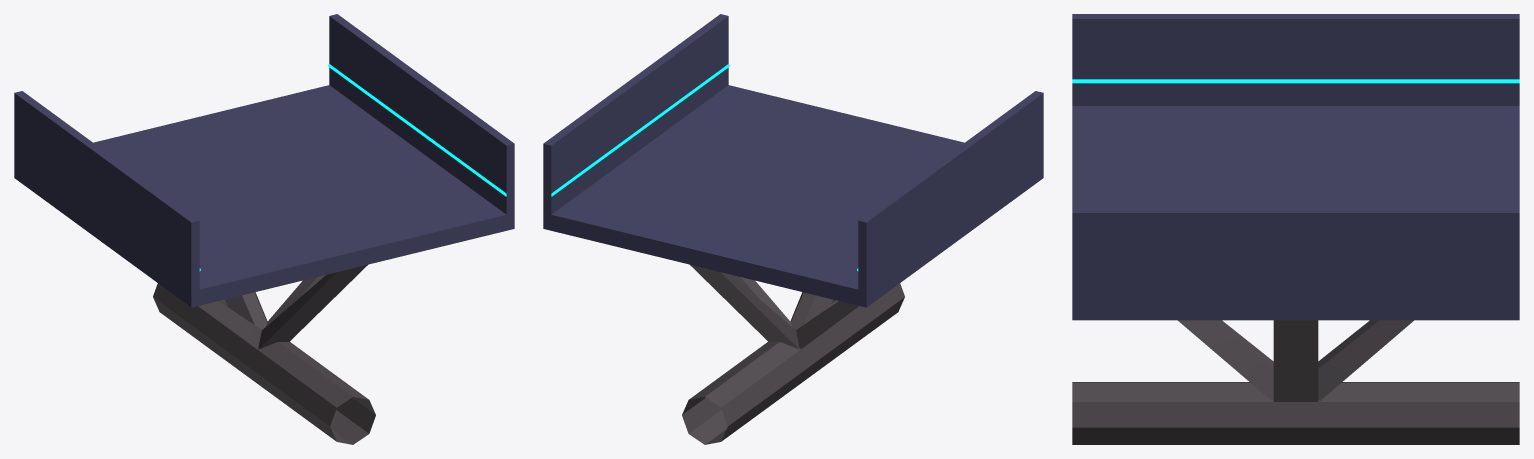
The model's file is RoadSampleAppliedModifiers.fbx.
3 renders of one model, left to right at view 1: azimuth 30°, elevation 25°; view 2: azimuth 150°, elevation 25°; view 3: azimuth 270°, elevation 25°, orthographic. The views are drawn at different scales.
Visible parts, largest first — view 1: Road.001, Border.003, Tube.002, Pillars.001, Cylinder.003; view 2: Road.001, Border.003, Tube.002, Pillars.001, Cylinder.003; view 3: Border.003, Road.001, Tube.002, Pillars.001, Cylinder.003.
Boxes of the visible parts, bbox=[...] form: Road.001: bbox=[93, 85, 506, 305]; Border.003: bbox=[14, 14, 514, 307]; Tube.002: bbox=[153, 283, 375, 444]; Pillars.001: bbox=[199, 264, 367, 348]; Cylinder.003: bbox=[199, 64, 506, 271]; Road.001: bbox=[551, 85, 964, 305]; Border.003: bbox=[543, 14, 1043, 307]; Tube.002: bbox=[682, 283, 904, 444]; Pillars.001: bbox=[690, 264, 858, 348]; Cylinder.003: bbox=[551, 64, 858, 271]; Border.003: bbox=[1072, 14, 1519, 320]; Road.001: bbox=[1072, 106, 1519, 207]; Tube.002: bbox=[1072, 382, 1519, 444]; Pillars.001: bbox=[1178, 320, 1413, 401]; Cylinder.003: bbox=[1072, 79, 1519, 83].
Bounding box in the file's own units: 211 × 200 × 163.
